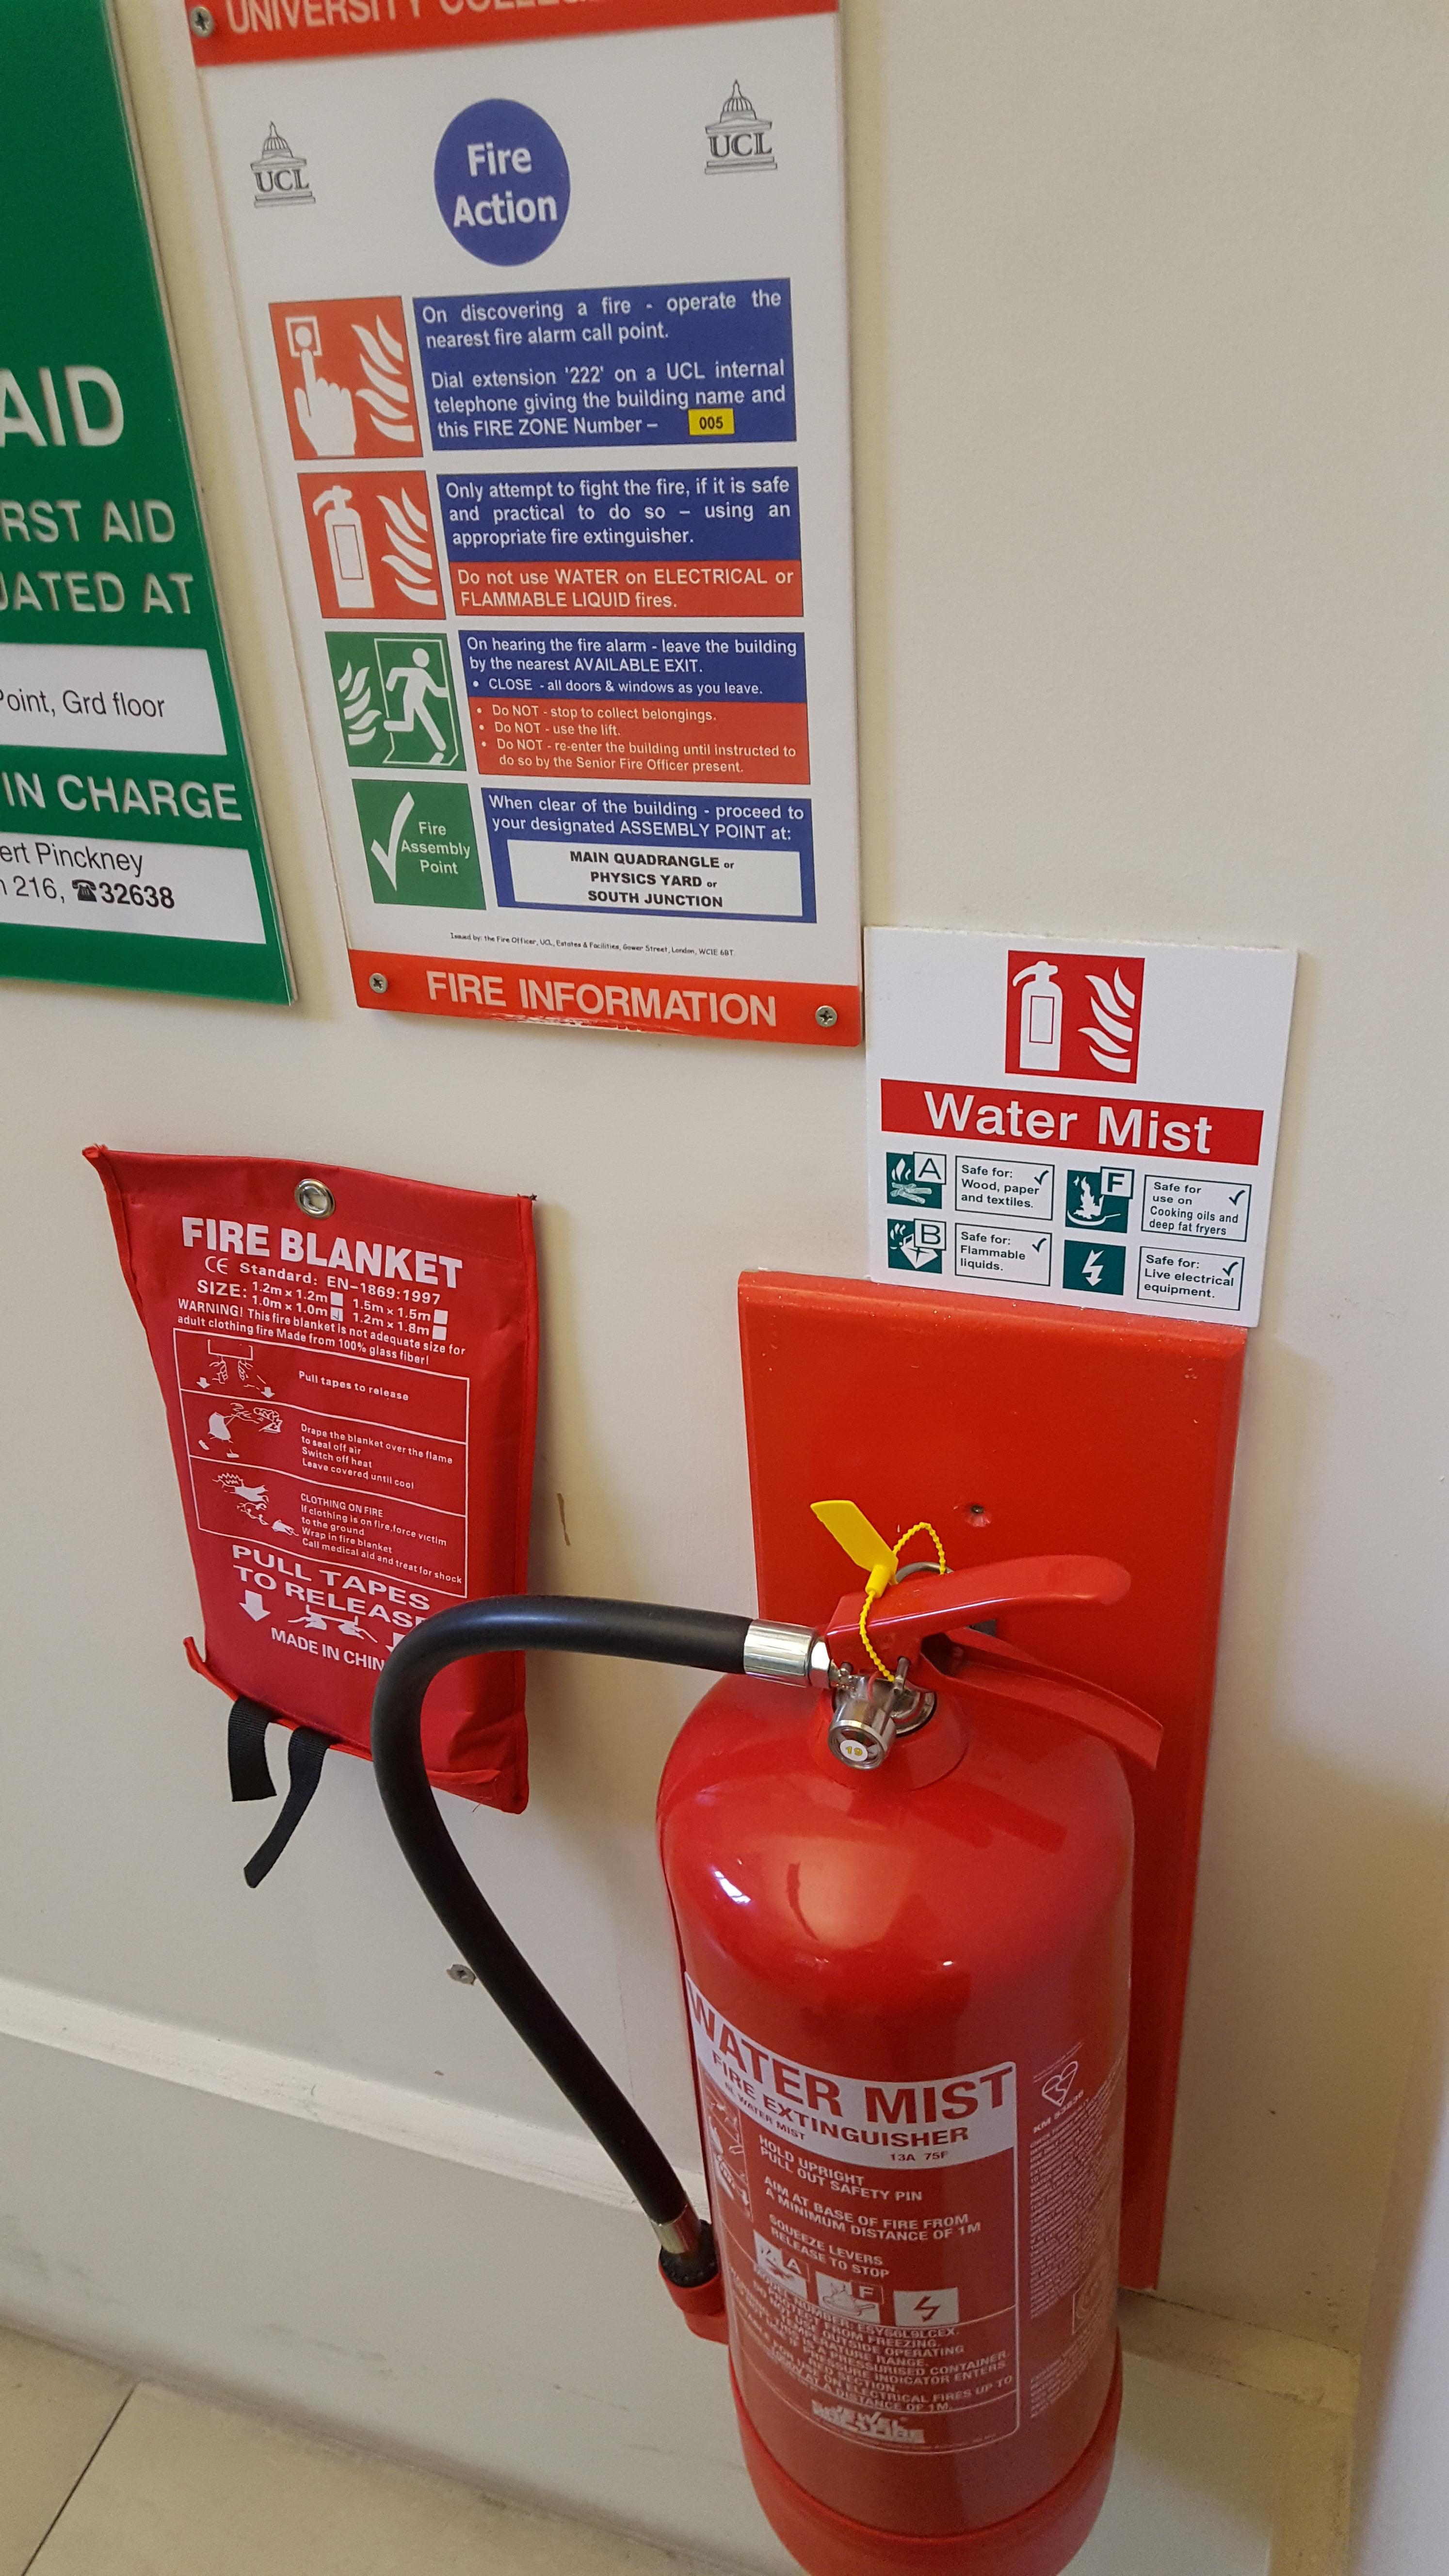blanket: (81, 1143, 540, 1762)
extinguisher: (370, 1553, 1166, 2574)
